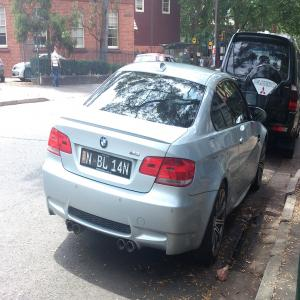Vehicle-registration-plate: (80, 150, 133, 179)
